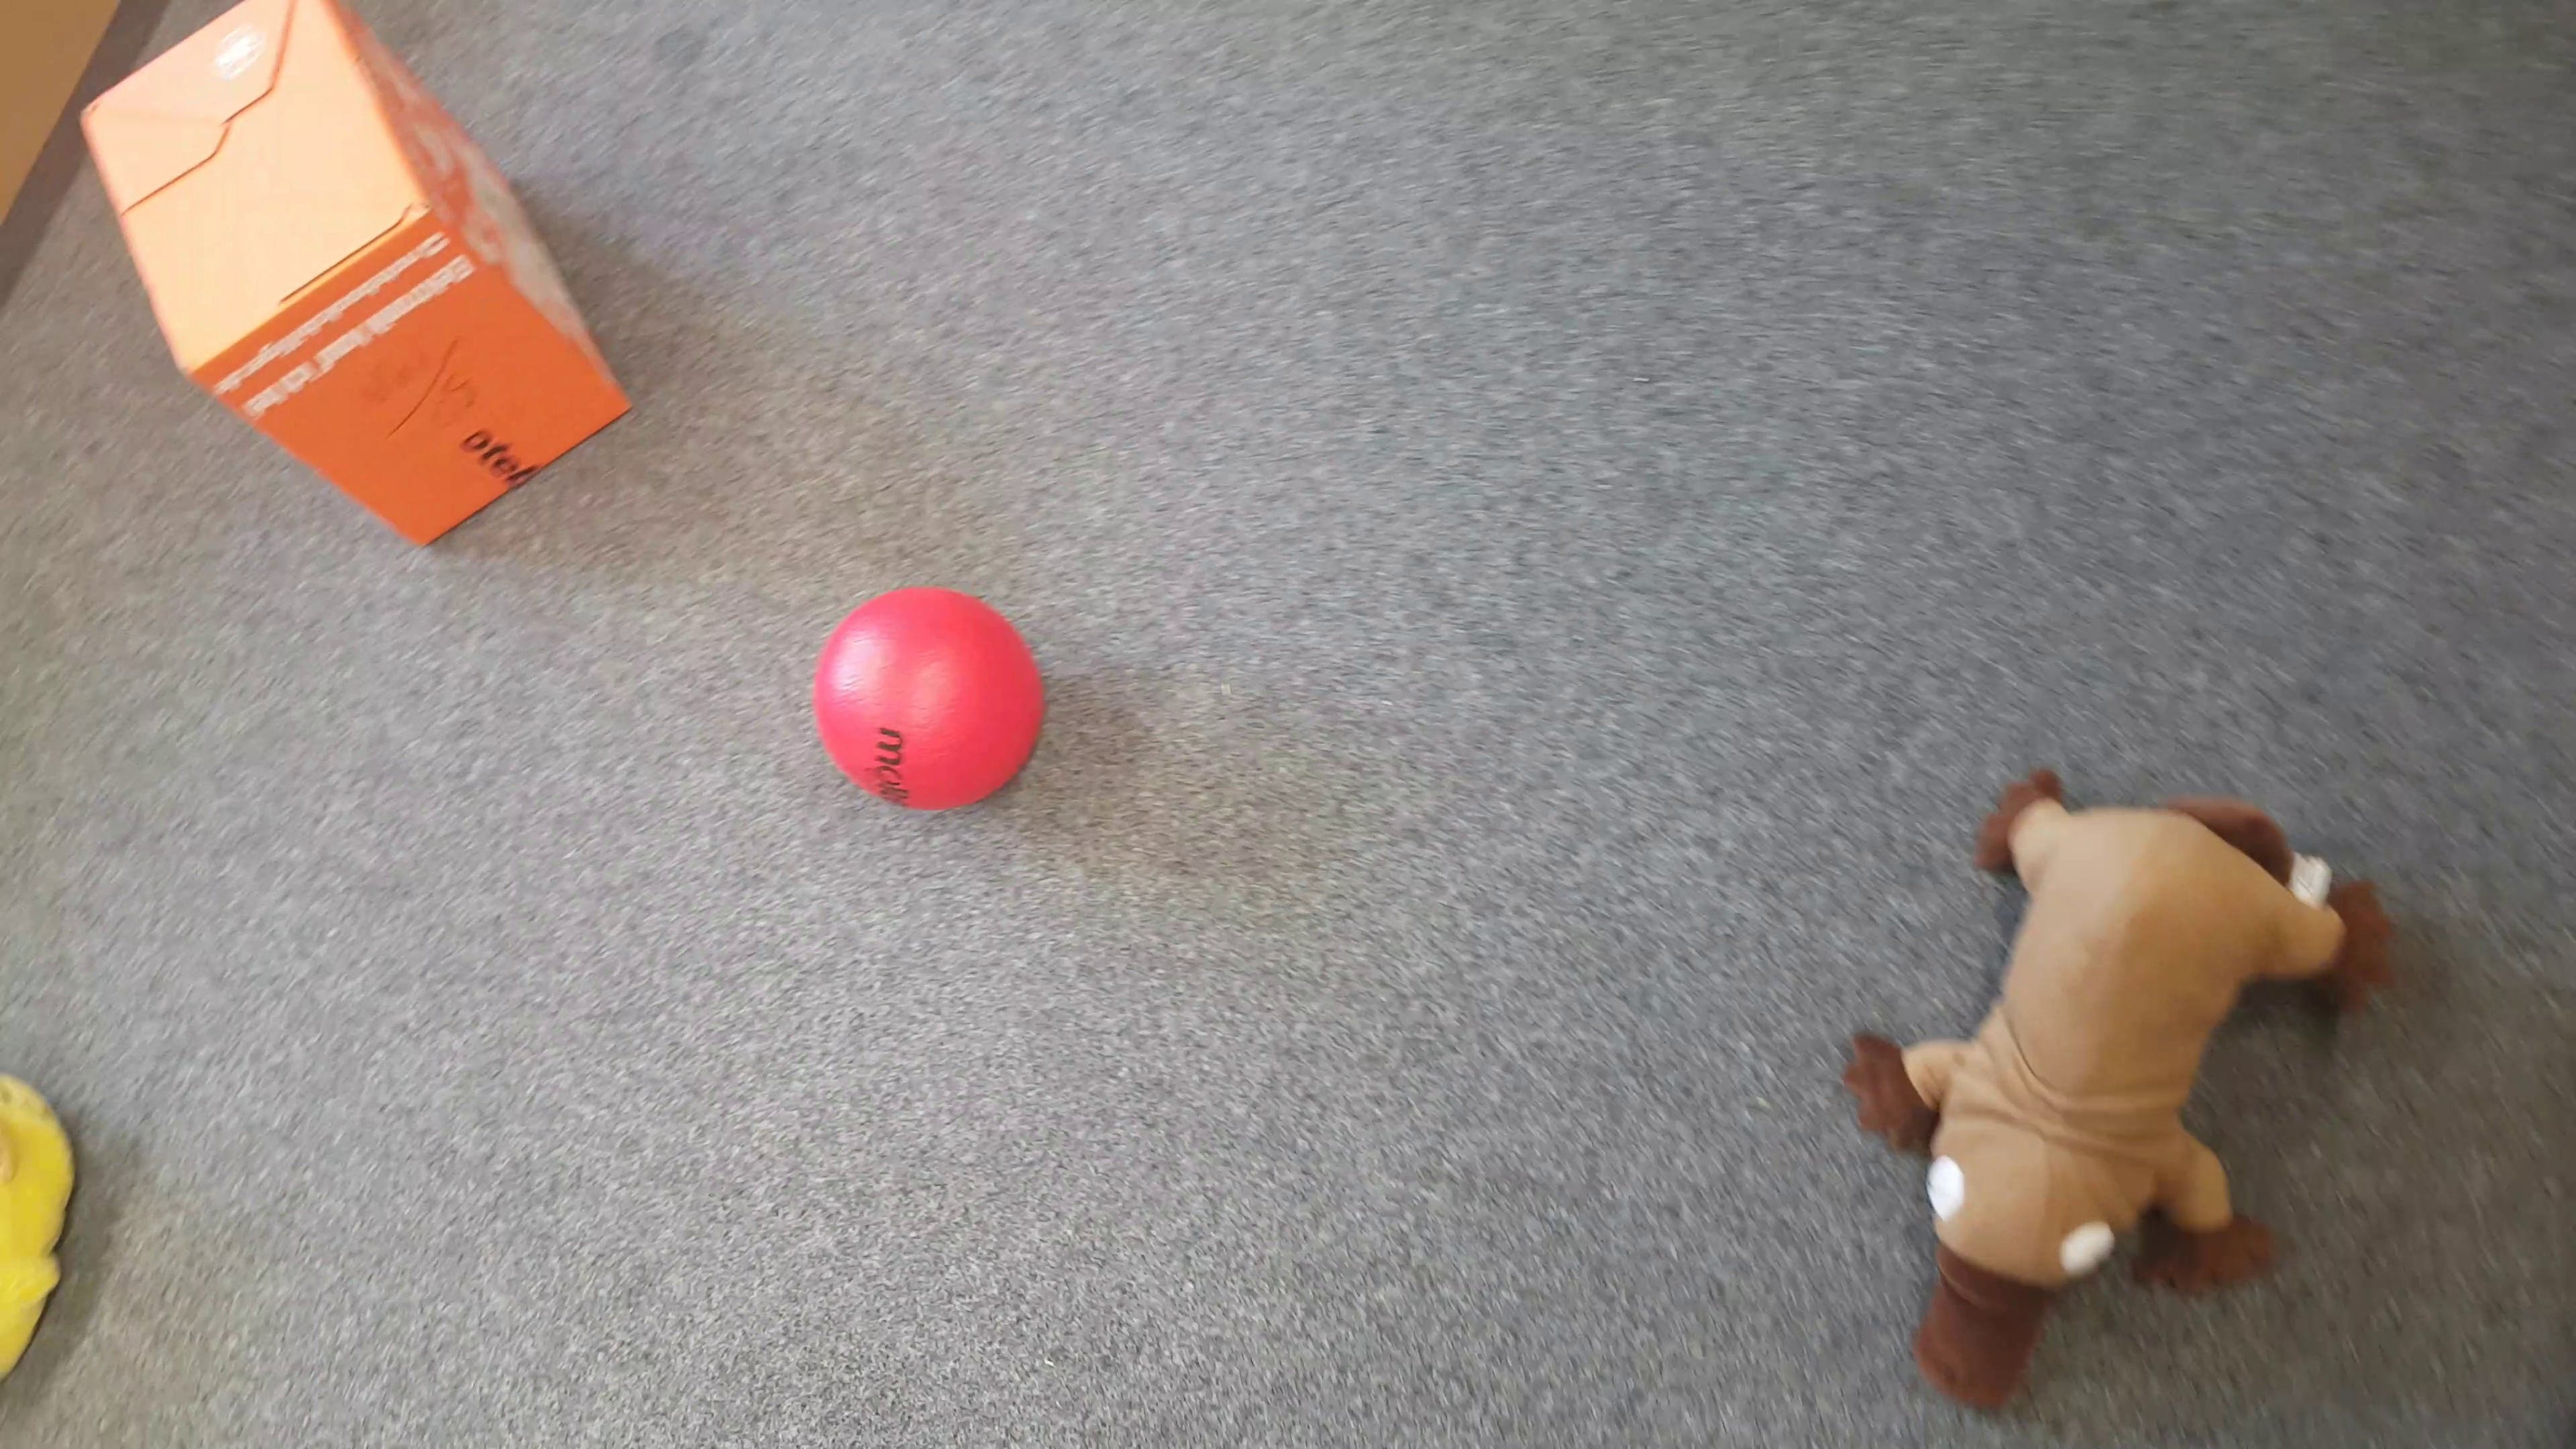grasp: (1854, 775, 2403, 1410), (7, 1069, 74, 1398)
kick: (816, 582, 1053, 809)
push: (83, 5, 633, 548)
